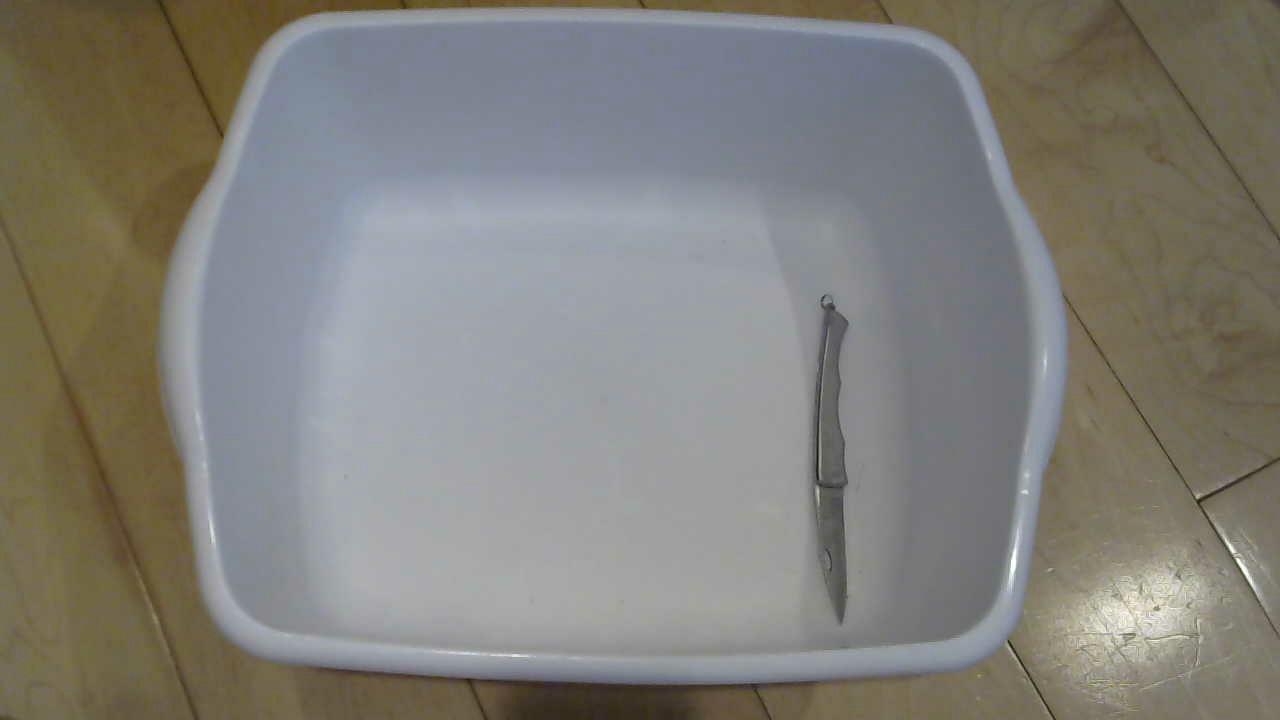knife: (773, 301, 892, 633)
